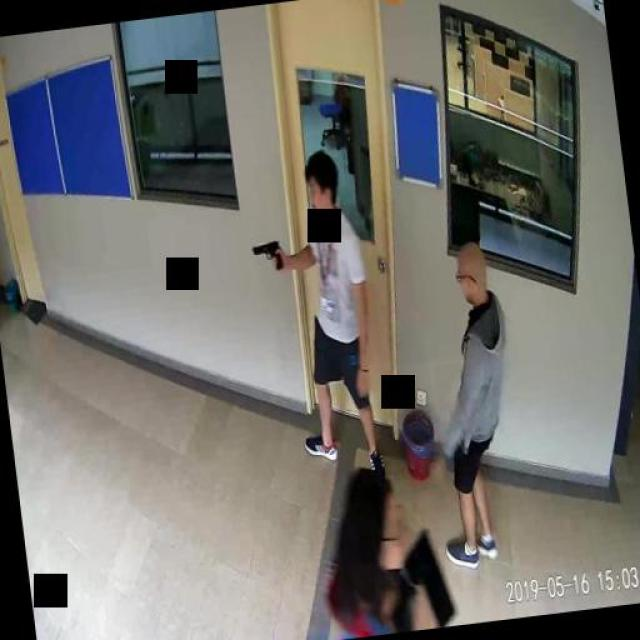gun: (248, 238, 282, 272)
